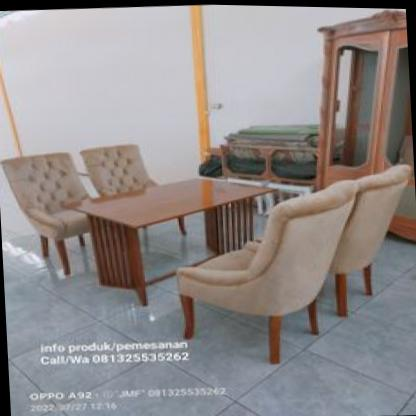Dining Table: (0, 125, 416, 349)
